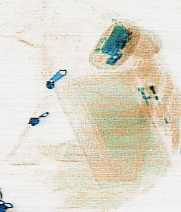lighter: (136, 81, 173, 128)
